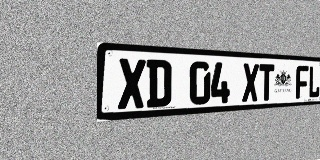0: (189, 61, 211, 105)
4: (211, 62, 230, 104)
D: (146, 59, 172, 108)
F: (296, 65, 308, 99)
L: (308, 66, 320, 98)
T: (259, 64, 274, 101)
X: (118, 58, 146, 109), (242, 63, 259, 102)
